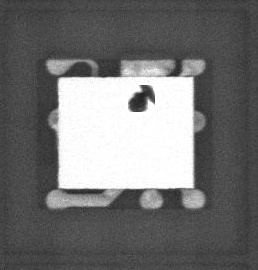DIE_INK: (128, 85, 156, 113)
